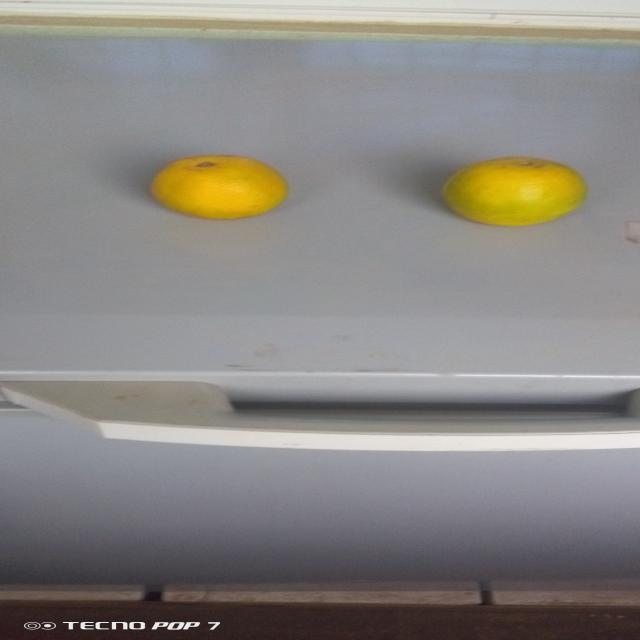agrume: (431, 144, 596, 248), (138, 154, 324, 234)
